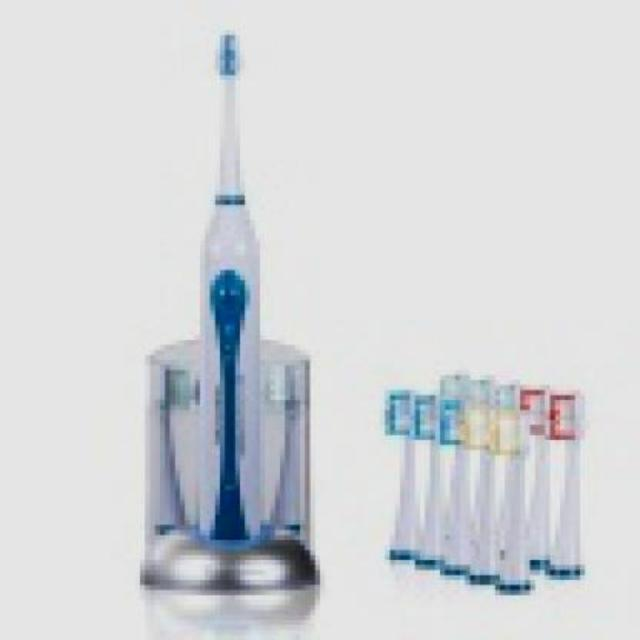toothbrush: (147, 15, 319, 581)
